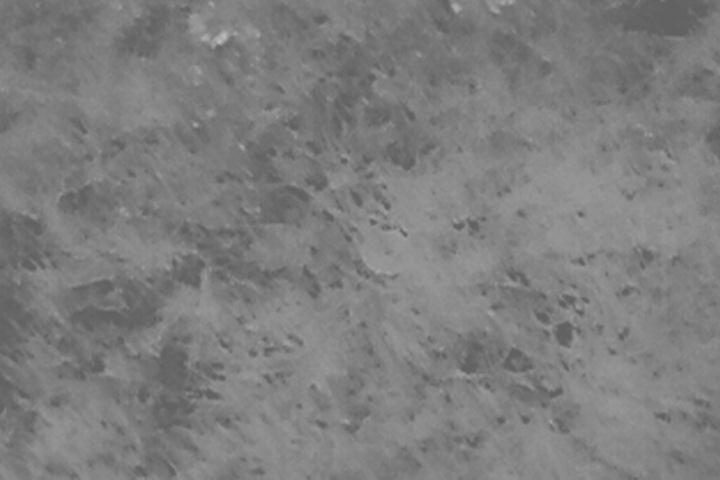landmine: (362, 228, 419, 279)
